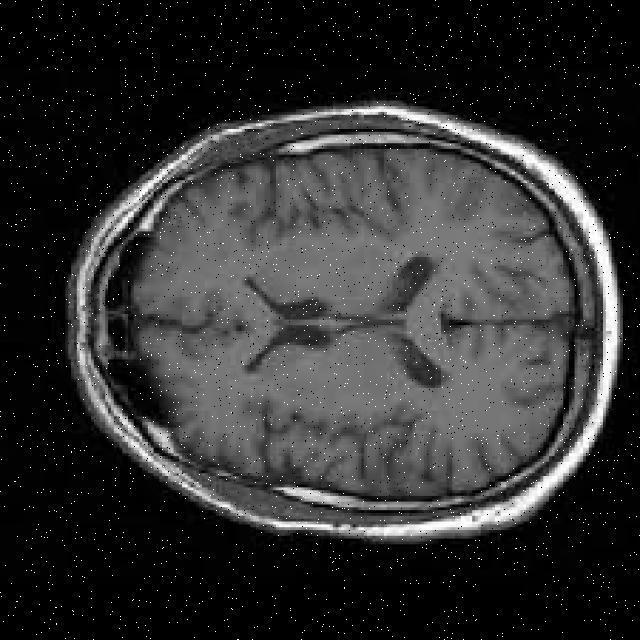No_Tumor: (67, 103, 621, 541)
